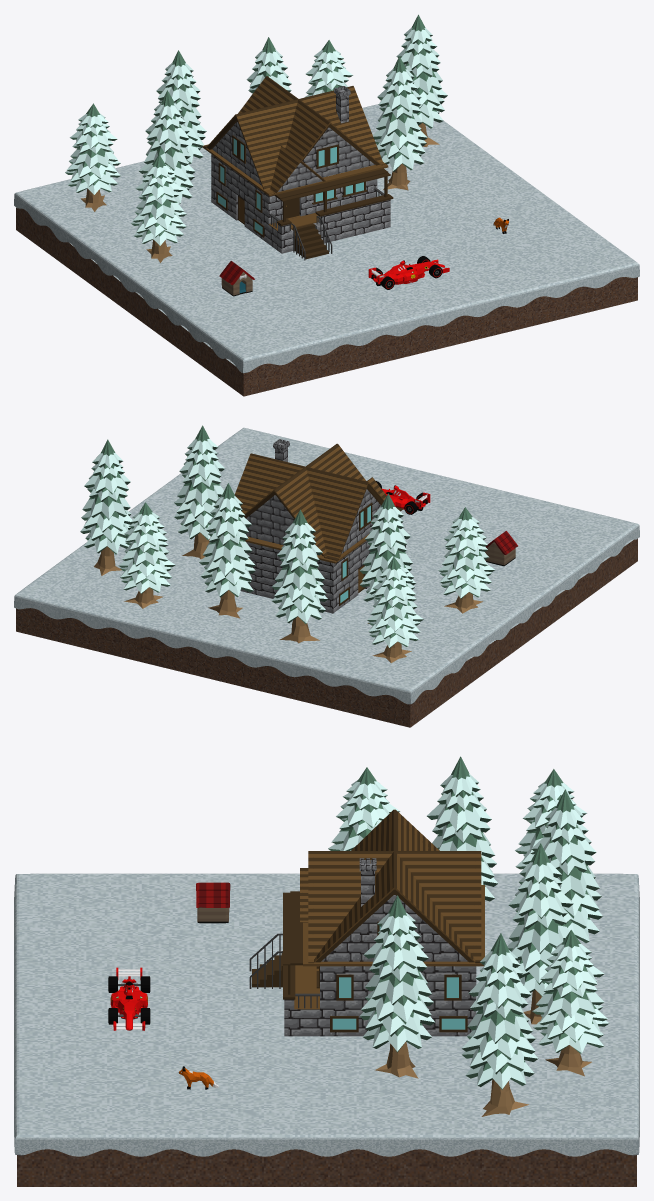
3 renders of one model, top to bottom at view 1: azimuth 30°, elevation 25°; view 2: azimuth 150°, elevation 25°; view 3: azimuth 270°, elevation 25°, orthographic. The views are drawn at different scales.
Visible parts, largest first — view 1: Cube.003, Cube.586, VEHICLES_FORMULA_1, OBJRANDOM_DOGHOUSE; view 2: Cube.003, Cube.586, OBJRANDOM_DOGHOUSE, VEHICLES_FORMULA_1; view 3: Cube.003, Cube.586, VEHICLES_FORMULA_1, OBJRANDOM_DOGHOUSE.
Part boxes in pixels (x1,y1,x2,y2): Cube.003: (14,14,639,396); Cube.586: (202,76,393,260); VEHICLES_FORMULA_1: (368,256,449,289); OBJRANDOM_DOGHOUSE: (219,261,254,296); Cube.003: (14,425,639,727); Cube.586: (234,439,405,613); OBJRANDOM_DOGHOUSE: (485,531,517,566); VEHICLES_FORMULA_1: (376,481,430,514); Cube.003: (14,756,639,1186); Cube.586: (249,809,484,1036); VEHICLES_FORMULA_1: (108,967,150,1030); OBJRANDOM_DOGHOUSE: (196,882,230,923).
Size of the model in its own units: 4040 by 1665 by 4040.
33 materials, 4 textured.
